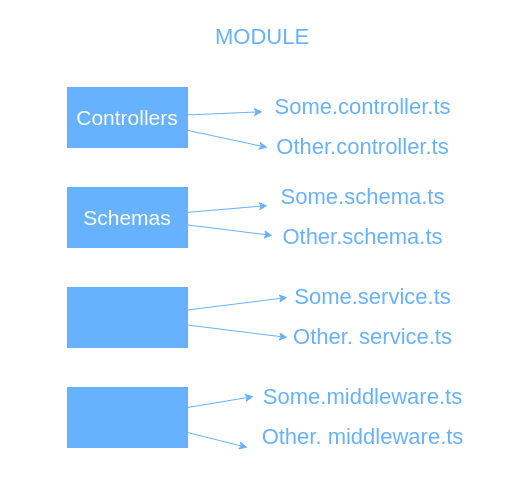
Image size: 525x495. Some labels were removed from this diagram. The centre of each missing label's shape, as x and y in pixels:
"Middlewares" goes at (127,417).
"Services" goes at (127,317).
